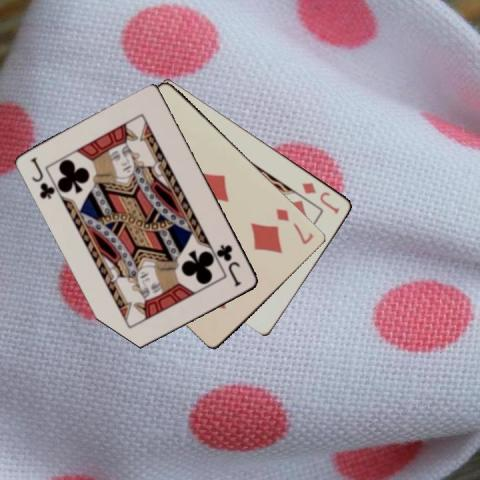7d: (274, 205, 316, 246)
Jc: (28, 154, 57, 201), (215, 242, 243, 288)
Jd: (299, 179, 342, 216)
